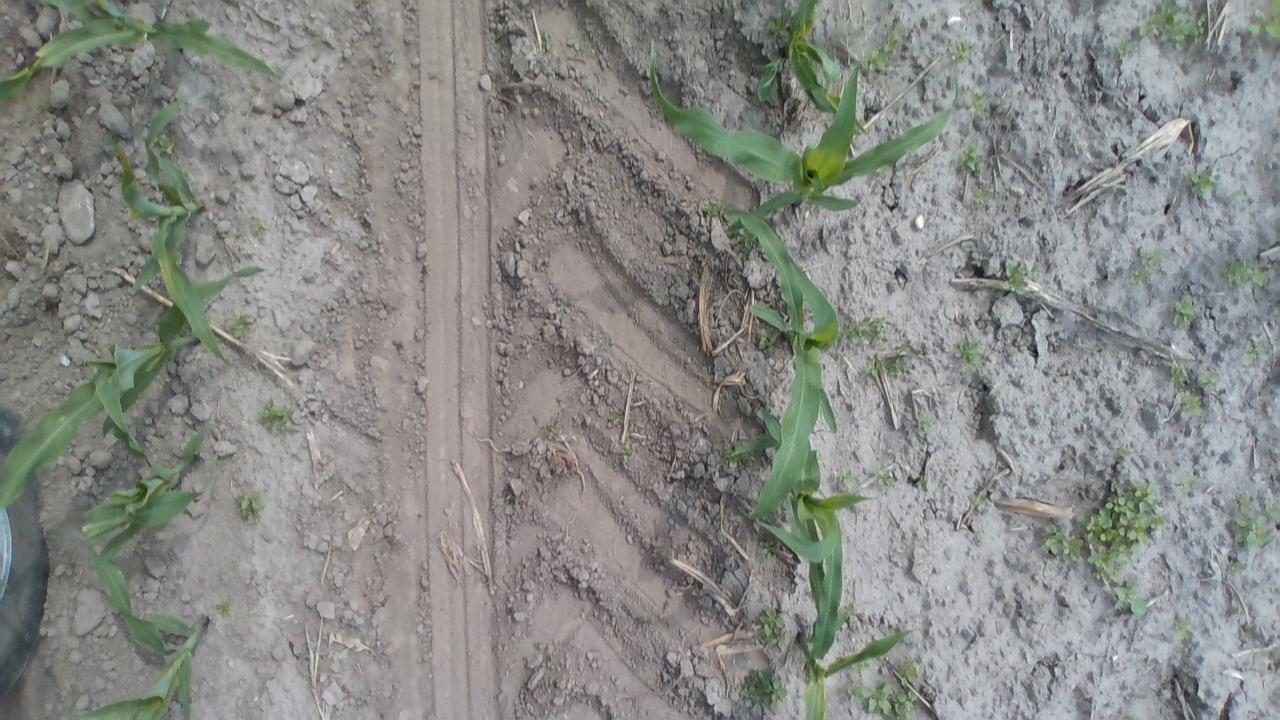Maize: (0, 253, 276, 515), (640, 40, 969, 231), (711, 197, 847, 527), (730, 386, 876, 677), (110, 101, 232, 363), (58, 541, 212, 720), (0, 0, 280, 97), (75, 428, 214, 565), (780, 606, 926, 720), (748, 0, 848, 122)
Weeds: (1080, 475, 1170, 591), (1140, 1, 1210, 53), (845, 679, 919, 718), (738, 667, 788, 709), (861, 28, 905, 73), (1228, 506, 1272, 550), (842, 312, 891, 346), (1222, 256, 1268, 292), (254, 398, 296, 436), (1040, 522, 1080, 560), (754, 606, 788, 650), (1110, 581, 1150, 617), (1000, 260, 1038, 296), (730, 219, 760, 261), (1248, 5, 1278, 46), (1131, 248, 1162, 286), (1170, 294, 1202, 330), (865, 353, 908, 379), (954, 338, 986, 372), (1184, 164, 1216, 198), (234, 489, 266, 522), (956, 141, 986, 174), (960, 85, 989, 119), (764, 10, 793, 43), (1176, 389, 1204, 418), (892, 661, 921, 689), (948, 38, 976, 66), (714, 448, 750, 469), (152, 132, 180, 156), (228, 315, 253, 340), (700, 198, 725, 221), (876, 465, 898, 490), (1199, 366, 1220, 392), (1247, 338, 1268, 364), (971, 185, 994, 208), (1173, 619, 1196, 642), (1112, 38, 1135, 60), (836, 467, 859, 489), (754, 326, 775, 350), (212, 598, 236, 618), (757, 537, 776, 562), (1178, 471, 1194, 499), (1226, 187, 1249, 206), (250, 214, 268, 238), (1232, 492, 1256, 510), (914, 415, 934, 436), (606, 409, 626, 430), (967, 492, 989, 510), (1170, 364, 1188, 386), (546, 420, 564, 441), (556, 292, 572, 314), (851, 659, 874, 674), (1116, 445, 1136, 462), (1032, 600, 1050, 618), (896, 342, 914, 358), (621, 443, 636, 462), (542, 31, 554, 52), (916, 471, 930, 488), (1231, 560, 1246, 574)
